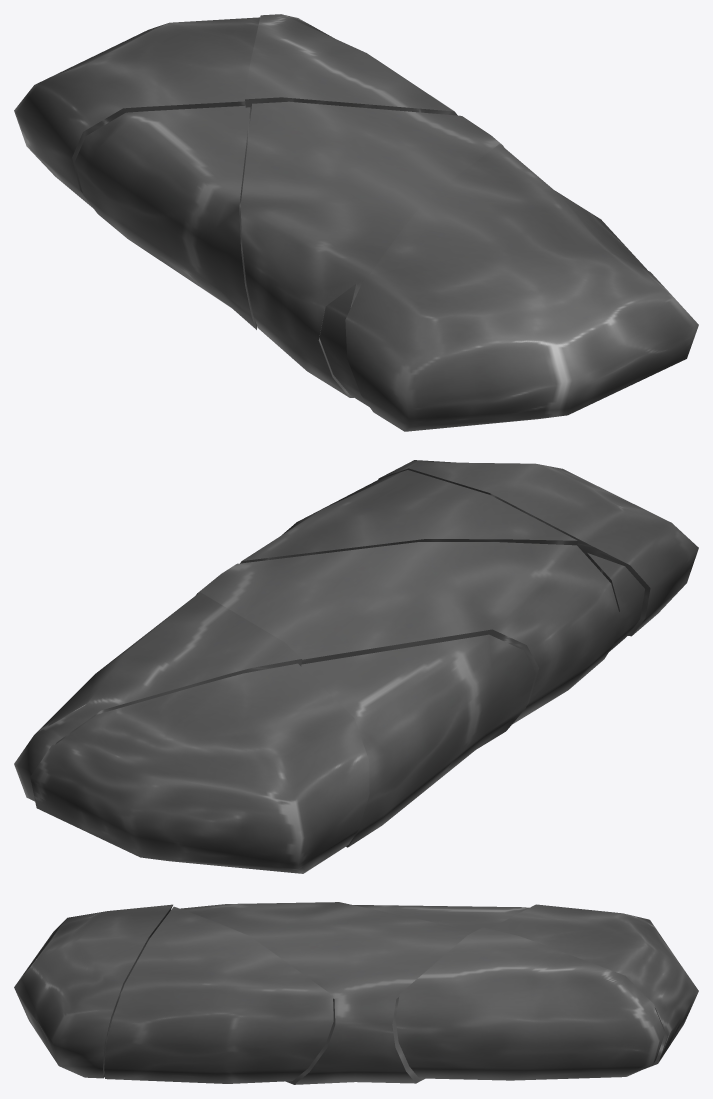
File: rocarompiblerota.fbx
3 renders of one model, top to bottom at view 1: azimuth 30°, elevation 25°; view 2: azimuth 150°, elevation 25°; view 3: azimuth 270°, elevation 25°, orthographic. The views are drawn at different scales.
Visible parts, largest first — view 1: polySurface1, polySurface2, polySurface4, polySurface3, polySurface6, polySurface5, polySurface7; view 2: polySurface3, polySurface2, polySurface4, polySurface1, polySurface5, polySurface6, polySurface7; view 3: polySurface5, polySurface6, polySurface2, polySurface1, polySurface3, polySurface4.
Boxes of the visible parts, <box> form: polySurface1: <box>345,250,698,431</box>; polySurface2: <box>240,101,503,397</box>; polySurface4: <box>75,106,257,329</box>; polySurface3: <box>14,17,259,208</box>; polySurface6: <box>370,144,647,274</box>; polySurface5: <box>245,14,457,115</box>; polySurface7: <box>319,283,369,406</box>; polySurface3: <box>30,663,369,873</box>; polySurface2: <box>196,542,619,724</box>; polySurface4: <box>301,634,535,847</box>; polySurface1: <box>378,460,698,636</box>; polySurface5: <box>14,592,301,801</box>; polySurface6: <box>240,470,577,563</box>; polySurface7: <box>586,553,644,651</box>; polySurface5: <box>395,927,664,1080</box>; polySurface6: <box>104,906,333,1083</box>; polySurface2: <box>180,902,474,1084</box>; polySurface1: <box>14,904,172,1078</box>; polySurface3: <box>490,904,698,1068</box>; polySurface4: <box>354,905,529,931</box>.
Size of the model in its own units: 6.97 by 3.14 by 17.52.
1 material, 1 textured.
